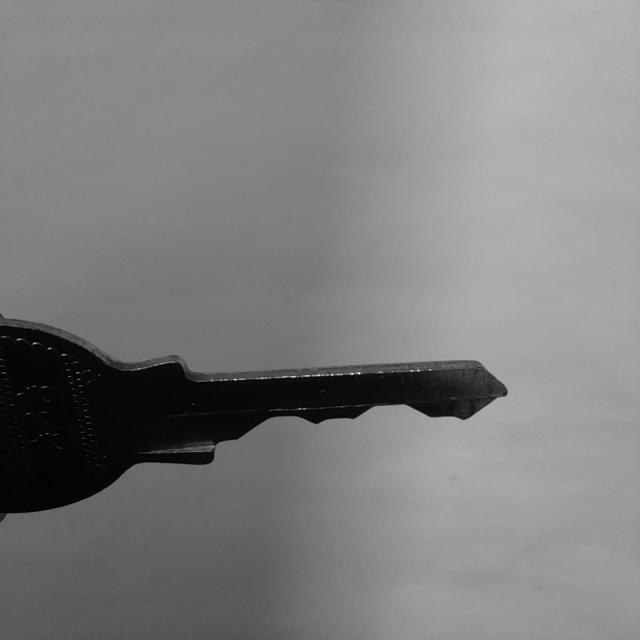key: (0, 319, 507, 514)
